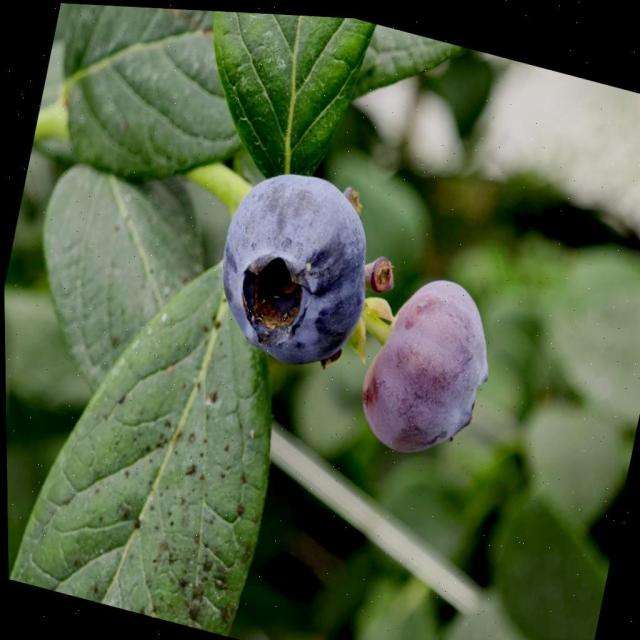RipeBlueBerry: (204, 154, 386, 375), (353, 258, 506, 466)
